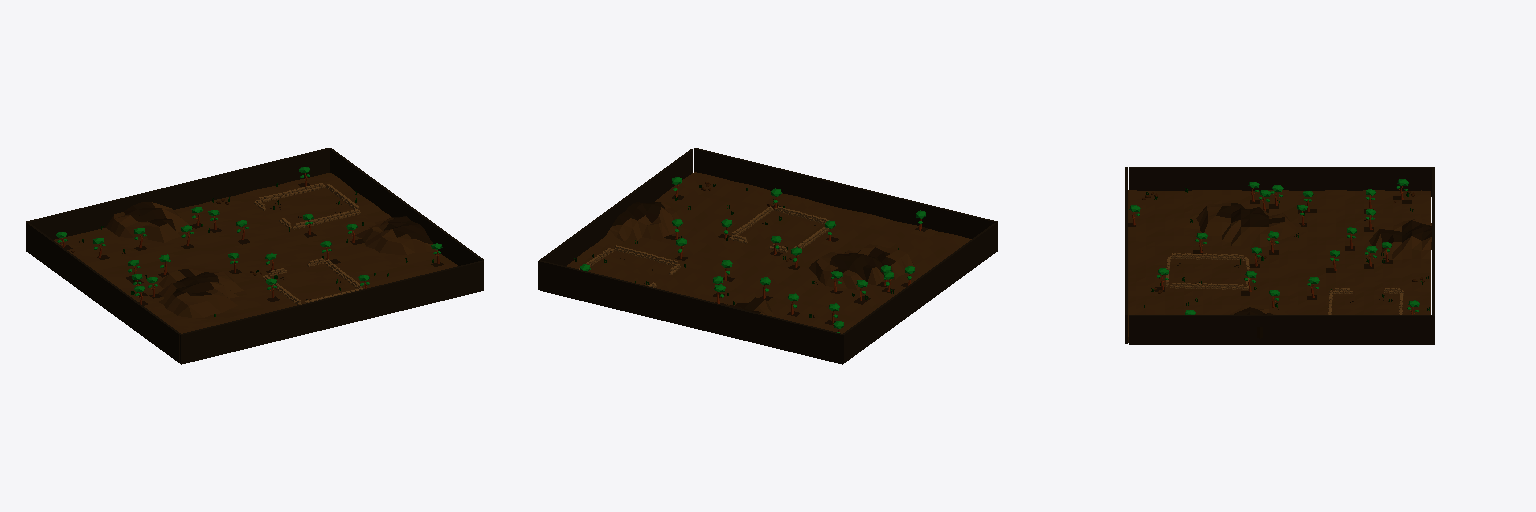
Rendered from Bethel.obj.
3 renders of one model, left to right at view 1: azimuth 30°, elevation 25°; view 2: azimuth 150°, elevation 25°; view 3: azimuth 270°, elevation 25°, orthographic.
Parts seen in each view (by area): view 1: Plane_Plane.001, Cube.512_Cube.005, Cube.477_Cube.000, Cube.511_Cube.004, Cube.478_Cube.001; view 2: Plane_Plane.001, Cube.477_Cube.000, Cube.512_Cube.005, Cube.511_Cube.004, Cube.478_Cube.001; view 3: Plane_Plane.001, Cube.478_Cube.001, Cube.511_Cube.004, Cube.512_Cube.005.
Boxes of the visible parts, x1,y1,x2,y2 form: Plane_Plane.001: [54, 173, 457, 333]; Cube.512_Cube.005: [180, 260, 483, 364]; Cube.477_Cube.000: [26, 148, 329, 251]; Cube.511_Cube.004: [26, 222, 180, 362]; Cube.478_Cube.001: [330, 148, 483, 265]; Plane_Plane.001: [567, 172, 971, 333]; Cube.477_Cube.000: [540, 260, 843, 364]; Cube.512_Cube.005: [694, 148, 997, 251]; Cube.511_Cube.004: [843, 223, 996, 363]; Cube.478_Cube.001: [538, 149, 692, 289]; Plane_Plane.001: [1128, 190, 1431, 342]; Cube.478_Cube.001: [1129, 315, 1434, 344]; Cube.511_Cube.004: [1129, 167, 1431, 196]; Cube.512_Cube.005: [1125, 167, 1127, 343].
Bounding box in the file's own units: 251 × 23.14 × 221.